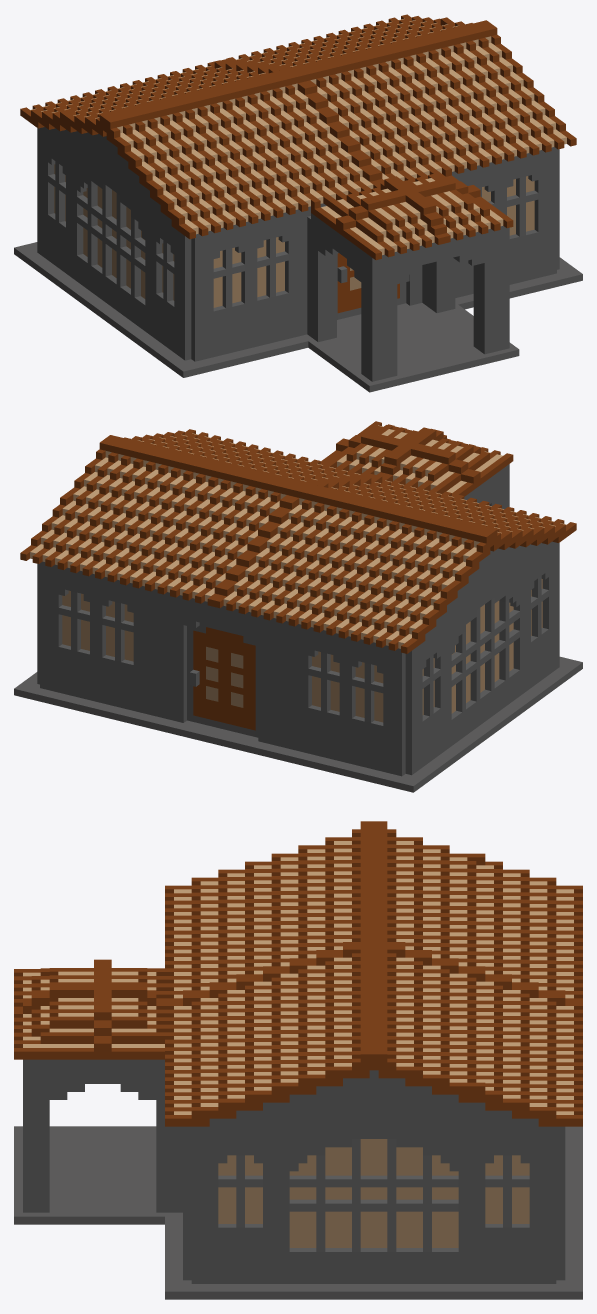
The model's file is bld_house5.obj.
3 renders of one model, top to bottom at view 1: azimuth 30°, elevation 25°; view 2: azimuth 150°, elevation 25°; view 3: azimuth 270°, elevation 25°, orthographic. The views are drawn at different scales.
Size of the model in its own units: 64 by 30 by 64.
